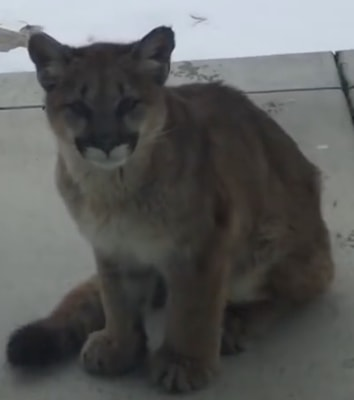Mountain Lion: (10, 20, 336, 382)
